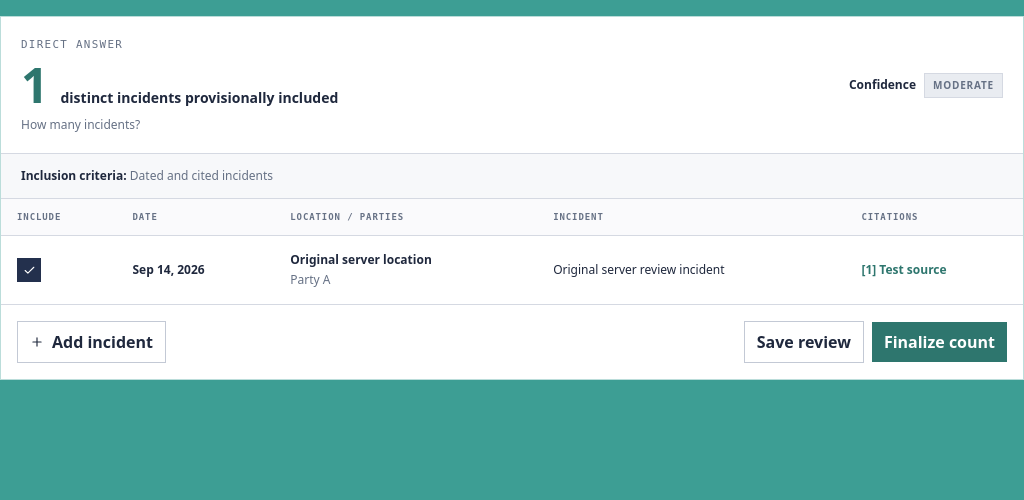
it: CountAnswerReview conflict handling › preserves the local draft until reload is explicitly confirmed
The image size is (1024, 500).
Click the button named "Remove incident from count" at x=29, y=270, box [17,258,41,282]
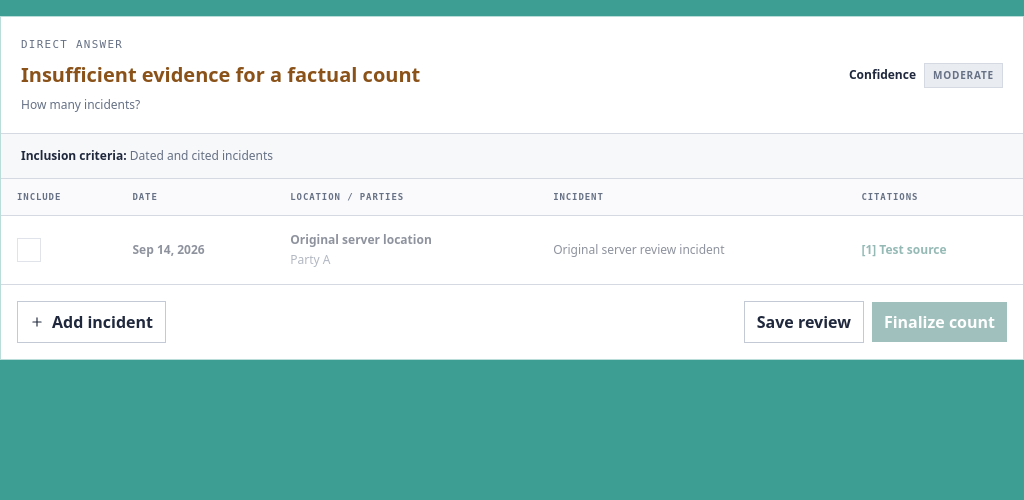
Result: the button named "Approve incident" is shown at [17,238,41,262]
Click the button "Save review" at x=804, y=322, box [744,301,864,343]
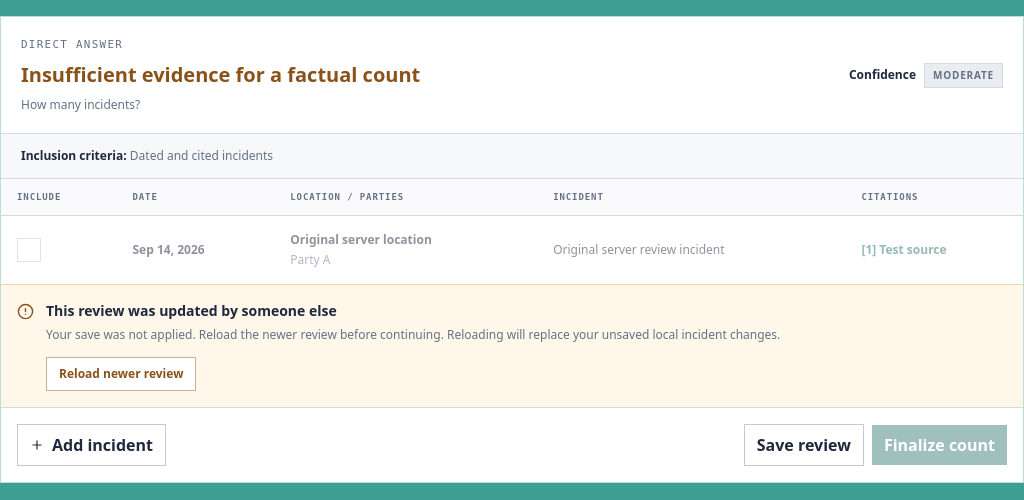
Result: the button named "Approve incident" is shown at [17,238,41,262]
Result: the message with test id "notice-review-conflict" is shown at [1,284,1023,407]
Click the button with test id "button-reload-review" at x=121, y=374, box [46,357,196,391]
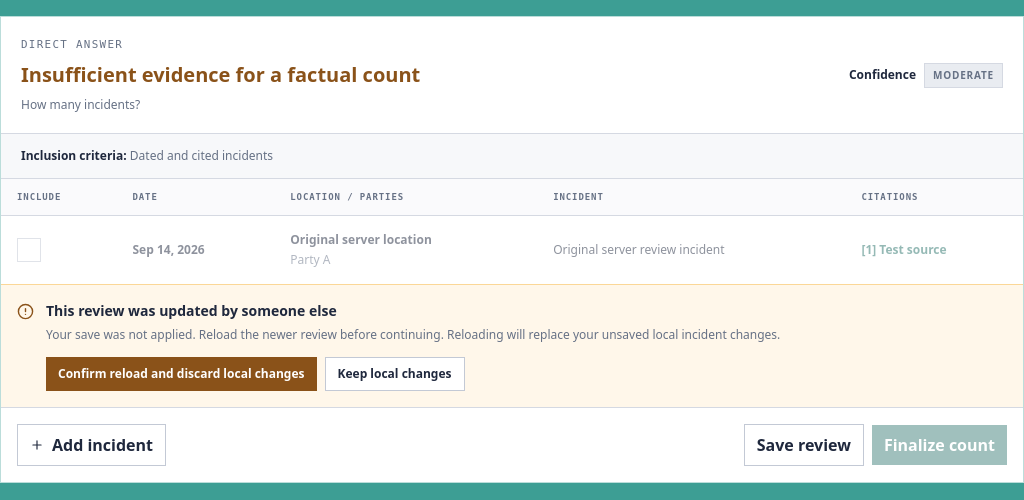
Result: the button named "Approve incident" is shown at [17,238,41,262]
Result: the button with test id "button-confirm-reload-review" is shown
Click the button with test id "button-confirm-reload-review" at x=181, y=374, box [46,357,316,391]
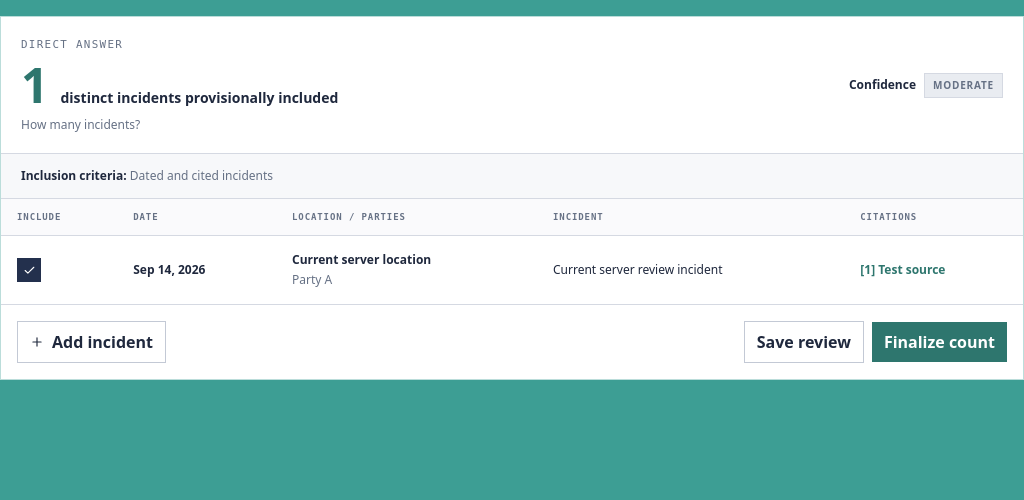
Result: the text "Current server review incident" is shown at [537,236,844,304]
Result: the button named "Remove incident from count" is shown at [17,258,41,282]
